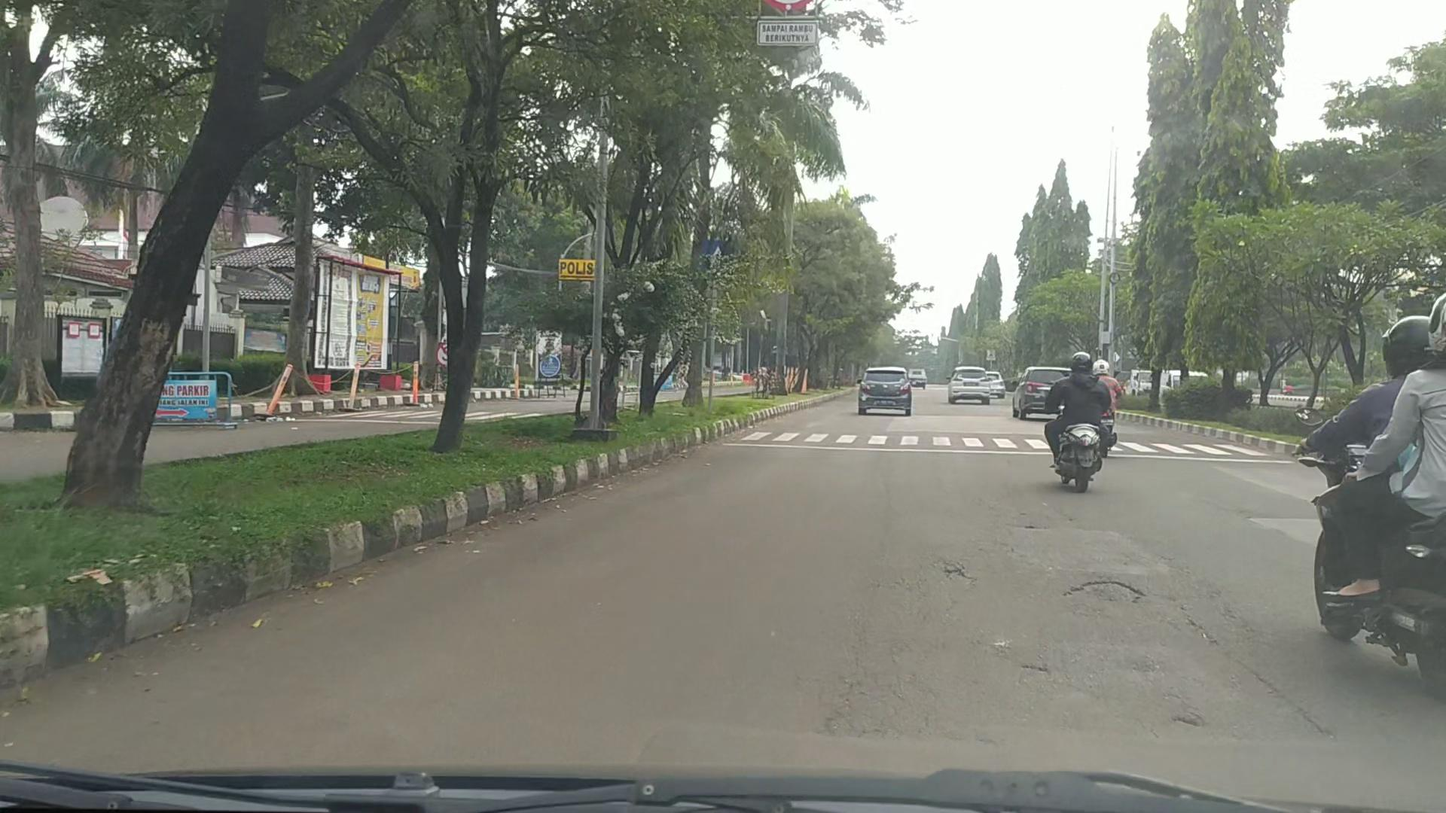pothole: (1062, 577, 1144, 603)
